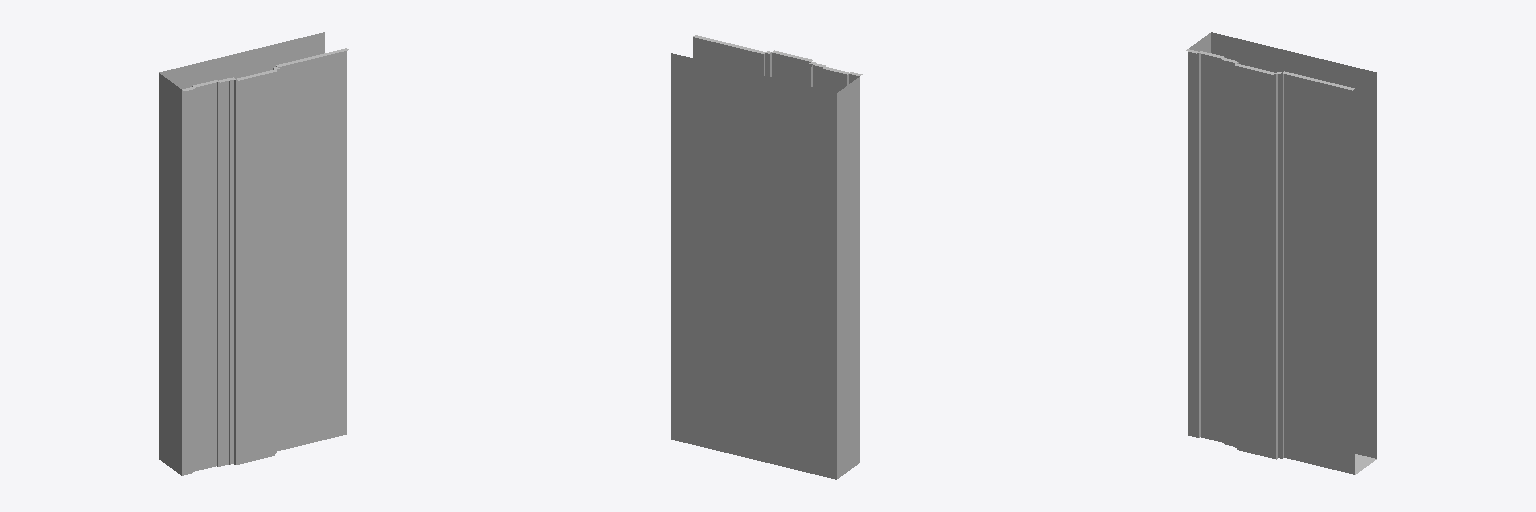
File: MainDoorLeft.obj
The picture shows the model from 3 angles: view 1: azimuth 30°, elevation 25°; view 2: azimuth 150°, elevation 25°; view 3: azimuth 330°, elevation 25°; orthographic projection.
Parts seen in each view (by area): view 1: Cube.024; view 2: Cube.024; view 3: Cube.024.
Part boxes in pixels (x1,y1,x2,y2): Cube.024: (159, 32, 348, 475); Cube.024: (671, 35, 862, 479); Cube.024: (1186, 32, 1376, 474).
Size of the model in its own units: 1.41 by 3.13 by 0.418.